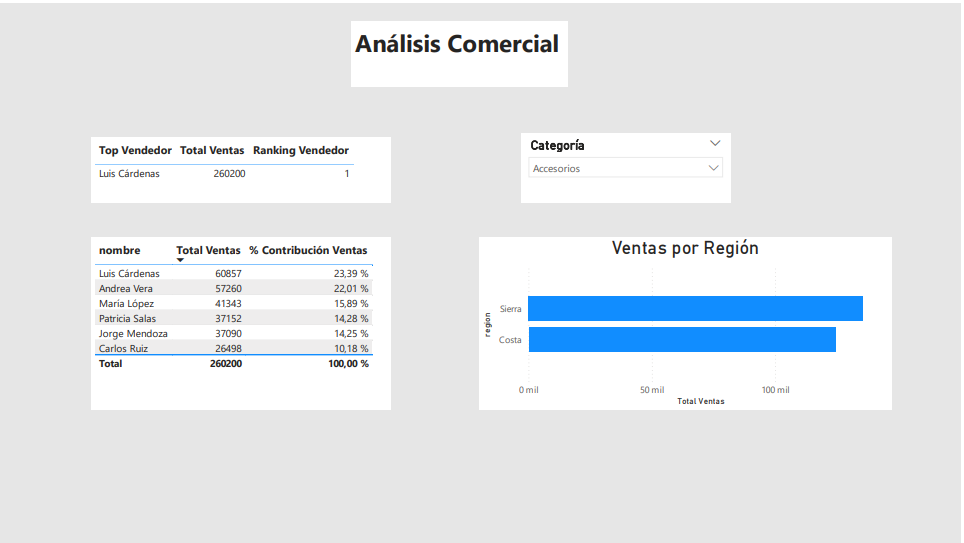

Layout of this report page (visuals, bound fields, positions):
{"tool":"powerbi","page":{"name":"Análisis Comercial","canvas":[1280,720],"ordinal":1},"visuals":[{"type":"slicer","fields":{"Values":["productos.categoria"]},"box":[694.1,174.2,279.4,92.2],"z":0},{"type":"tableEx","fields":{"Values":["Medidas.Top Vendedor","Medidas.Total Ventas","Medidas.Ranking Vendedor"]},"box":[121,178.6,398.9,87.8],"z":1000},{"type":"tableEx","fields":{"Values":["vendedores.nombre","Medidas.Total Ventas","Medidas.% Contribución Ventas"]},"box":[121,312.5,398.9,229],"z":2000},{"type":"barChart","title":"Ventas por Región","fields":{"Category":["vendedores.region"],"Y":["Medidas.Total Ventas"]},"box":[639.4,312.5,548.6,229],"z":3000},{"type":"textbox","box":[468,24.5,289.4,86.4],"z":3001}]}

Visuals, with their boxes in screenshot pixels (x1, y1, x2, y2), scaled from the page's 1280x720 canvas onto the 964x543 screenshot:
slicer - productos.categoria: left=523, top=131, right=733, bottom=201
tableEx - Medidas.Top Vendedor x Medidas.Total Ventas: left=91, top=135, right=392, bottom=201
tableEx - vendedores.nombre x Medidas.Total Ventas: left=91, top=236, right=392, bottom=408
"Ventas por Región" barChart: left=482, top=236, right=895, bottom=408
textbox: left=352, top=18, right=570, bottom=84
